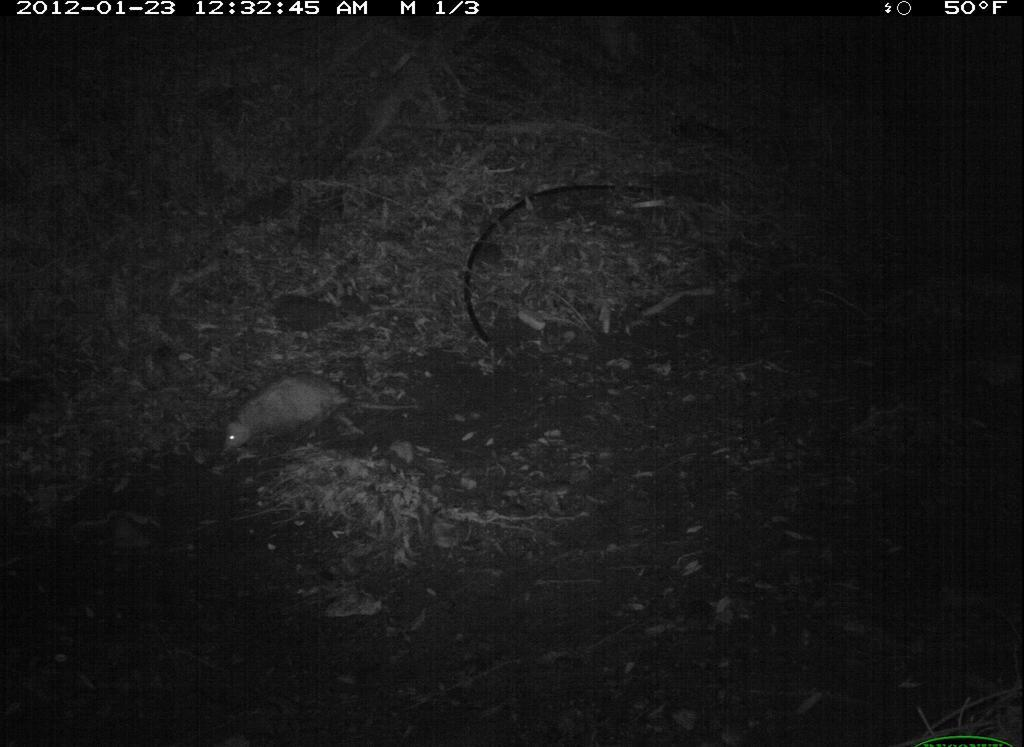opossum: (209, 363, 432, 468)
